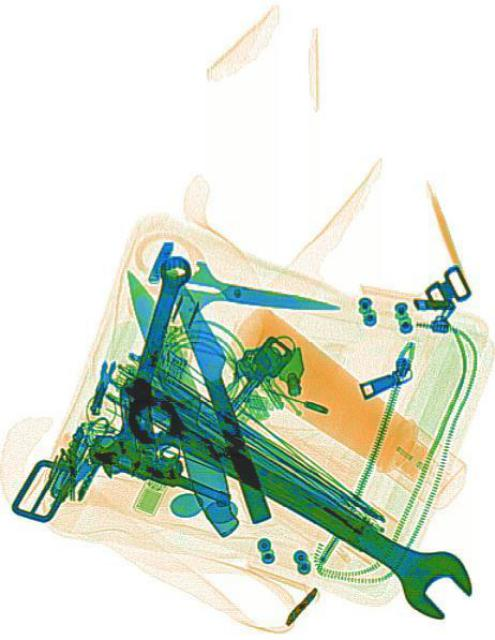Gun: (82, 366, 249, 516)
Knife: (114, 256, 244, 542), (164, 256, 275, 526), (179, 258, 340, 332)
Wrench: (114, 373, 479, 631), (97, 248, 193, 484)
